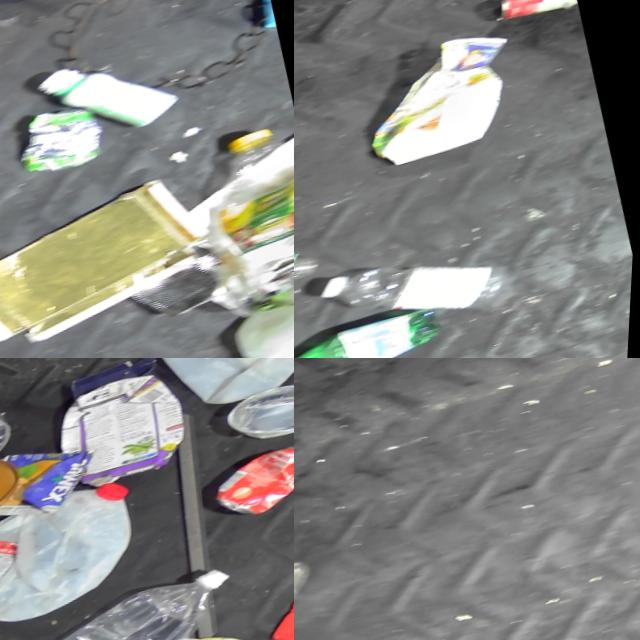can: (8, 93, 118, 185), (124, 242, 235, 331), (209, 431, 294, 522), (487, 0, 579, 31)
milk_jug: (0, 471, 161, 639), (142, 358, 294, 424), (213, 268, 294, 358)
plastic_bottle: (316, 228, 521, 355), (0, 556, 266, 640), (188, 113, 294, 278), (294, 301, 448, 358)
